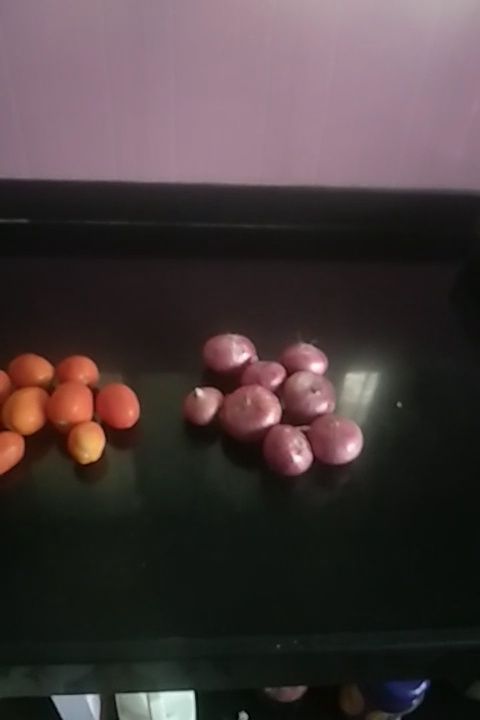onion: (222, 385, 287, 432), (305, 418, 364, 465), (280, 376, 339, 415), (259, 430, 311, 473), (236, 356, 296, 391), (280, 343, 340, 376), (185, 386, 231, 428), (207, 336, 255, 367)
tomato: (3, 386, 53, 434), (91, 383, 138, 431), (62, 421, 109, 465), (48, 384, 95, 425), (51, 354, 101, 390), (8, 355, 57, 389), (1, 428, 25, 470)
